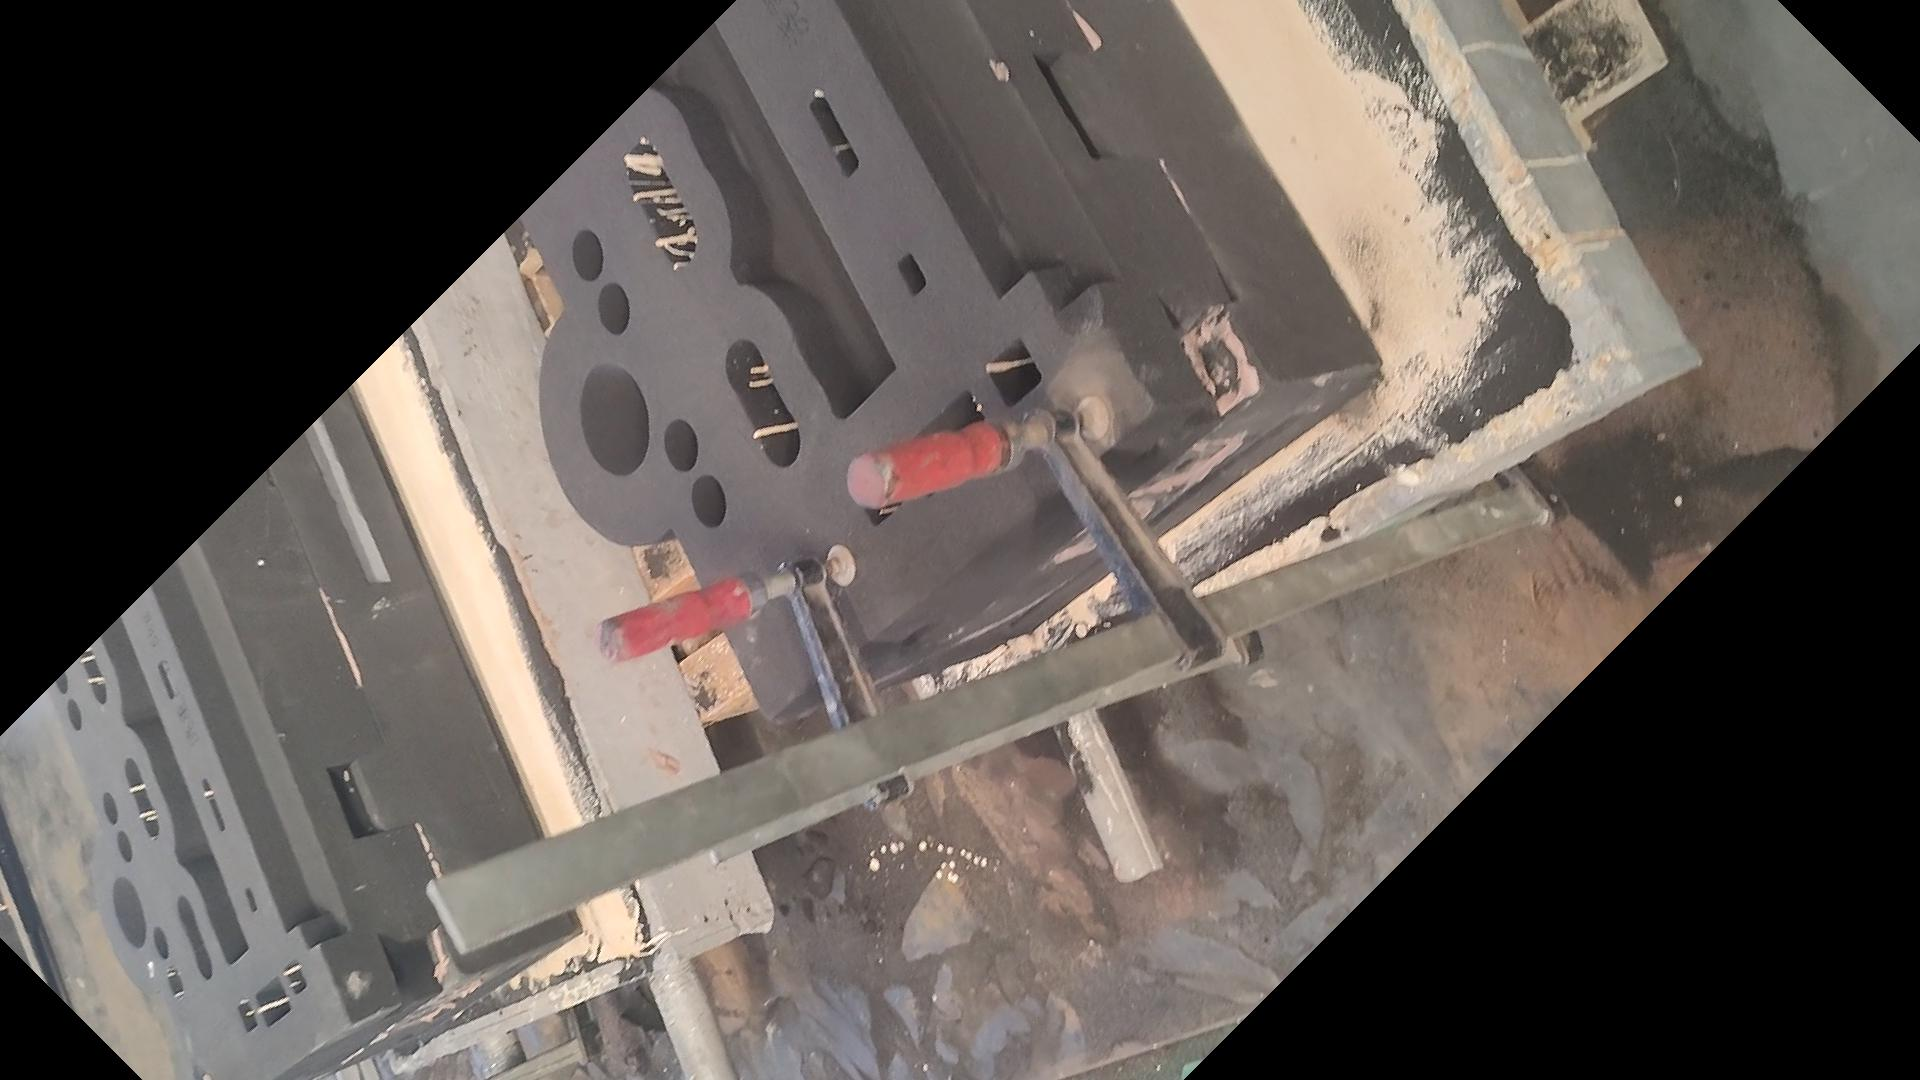pouring hole: (580, 364, 649, 477), (111, 878, 145, 949)
